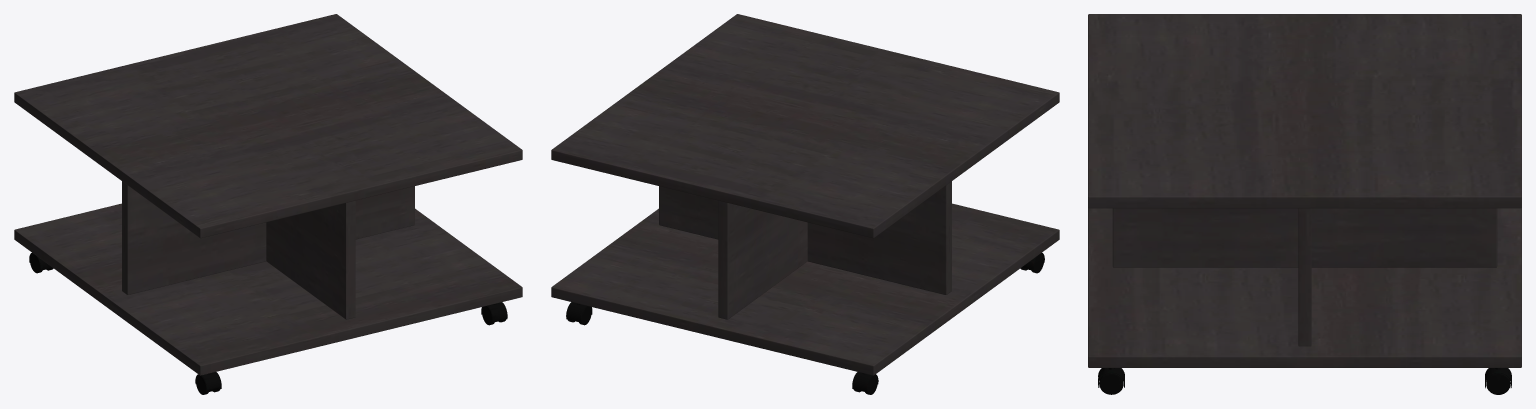
File: B07SSCJKLN.glb
3 renders of one model, left to right at view 1: azimuth 30°, elevation 25°; view 2: azimuth 150°, elevation 25°; view 3: azimuth 270°, elevation 25°, orthographic. The views are drawn at different scales.
Parts seen in each view (by area): view 1: RootNode; view 2: RootNode; view 3: RootNode.
Boxes of the visible parts, x1,y1,x2,y2 form: RootNode: (14, 14, 522, 394); RootNode: (551, 14, 1059, 394); RootNode: (1088, 14, 1521, 394).
Bounding box in the file's own units: 0.762 × 0.3962 × 0.762.
Materials: 1 (1 with a texture image).
